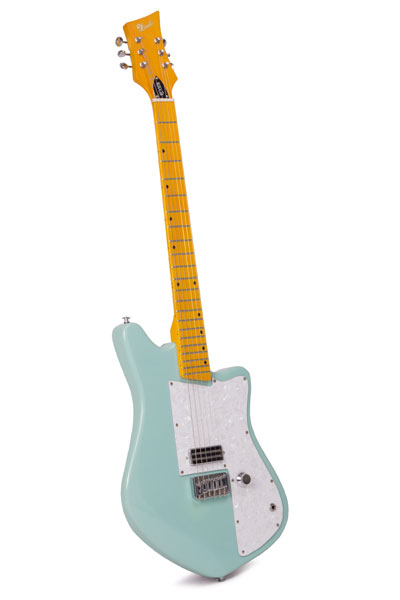ElectricGuitar: (90, 19, 289, 579)
